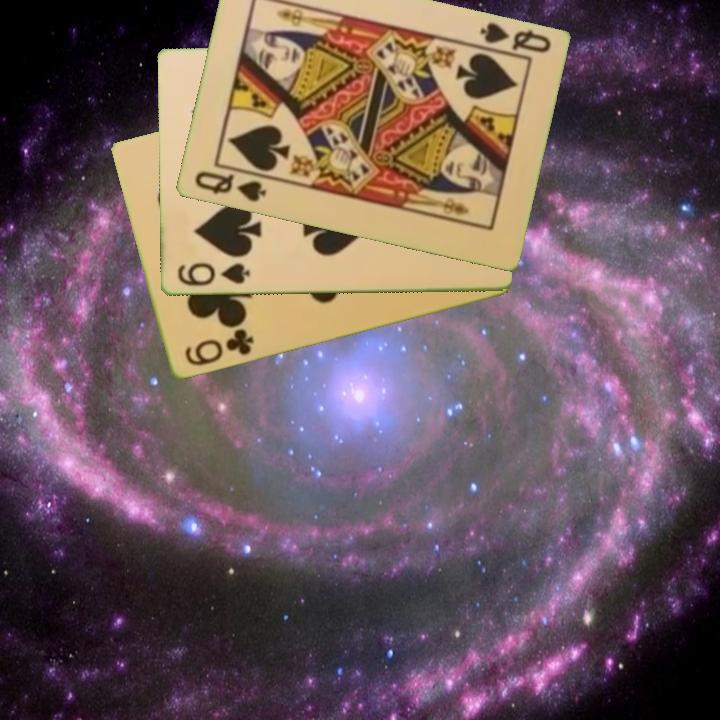6c: (181, 325, 257, 369)
6s: (174, 259, 252, 289)
Qs: (472, 19, 553, 62), (190, 168, 269, 206)
